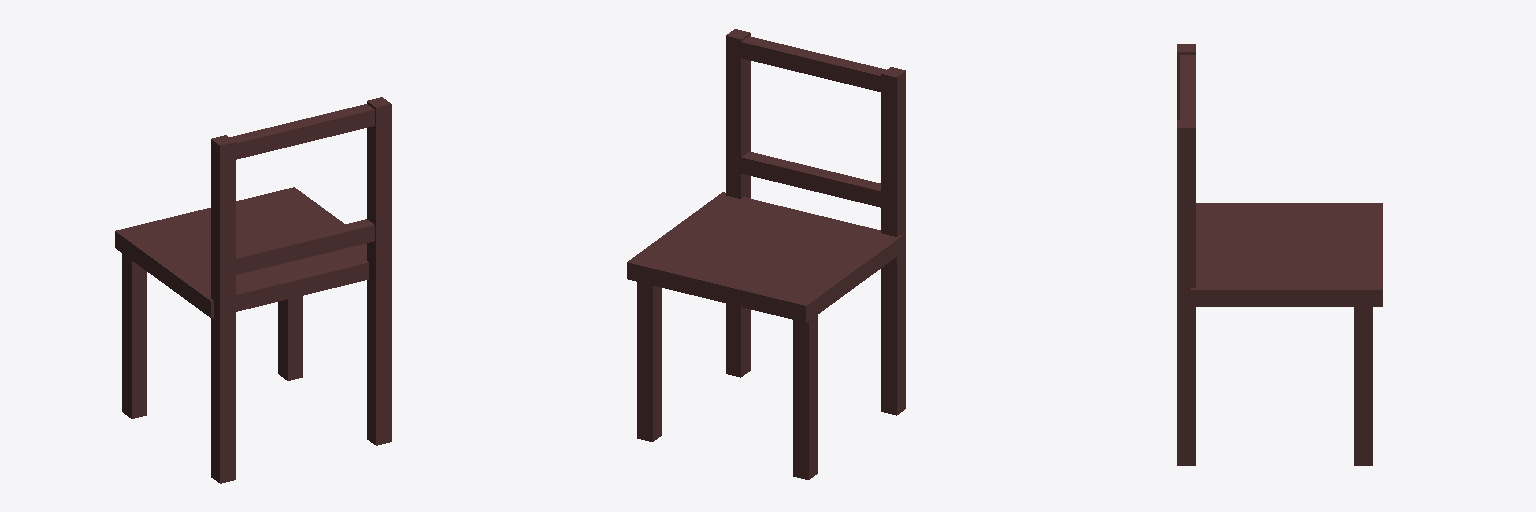
The model's file is chair5.obj.
The picture shows the model from 3 angles: view 1: azimuth 30°, elevation 25°; view 2: azimuth 150°, elevation 25°; view 3: azimuth 270°, elevation 25°; orthographic projection.
Visible parts, largest first — view 1: chair5; view 2: chair5; view 3: chair5.
Part boxes in pixels (left/top/right/bottom): chair5: left=115, top=97, right=391, bottom=483; chair5: left=627, top=29, right=905, bottom=479; chair5: left=1177, top=44, right=1382, bottom=465.
Bounding box in the file's own units: 0.5412 × 0.9733 × 0.536.